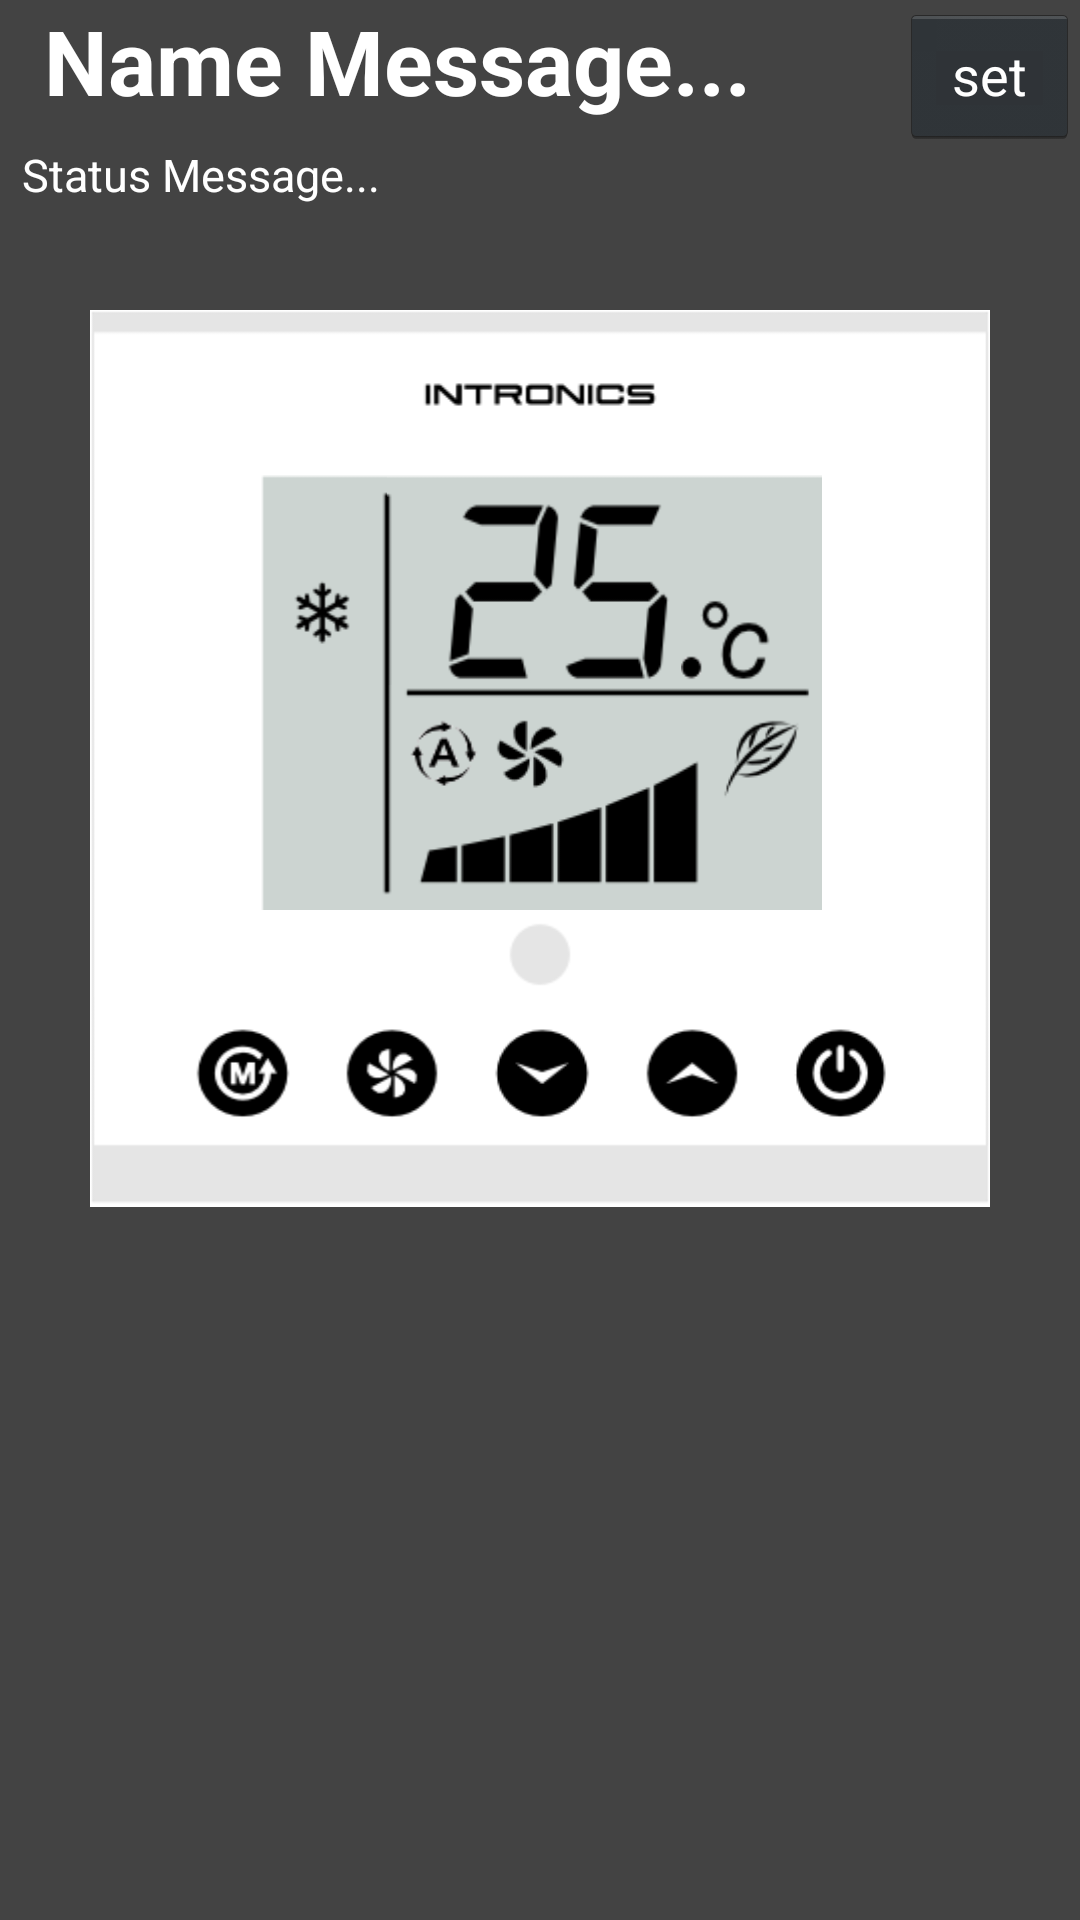

Icon click points for this 1080px x 1920px phone screenshot, format (x,y):
botton down: (542,1073)
botton fan: (392,1073)
botton mode: (242,1073)
botton power: (841,1073)
botton up: (692,1073)
economd: (761,758)
fanautohigh: (547,797)
